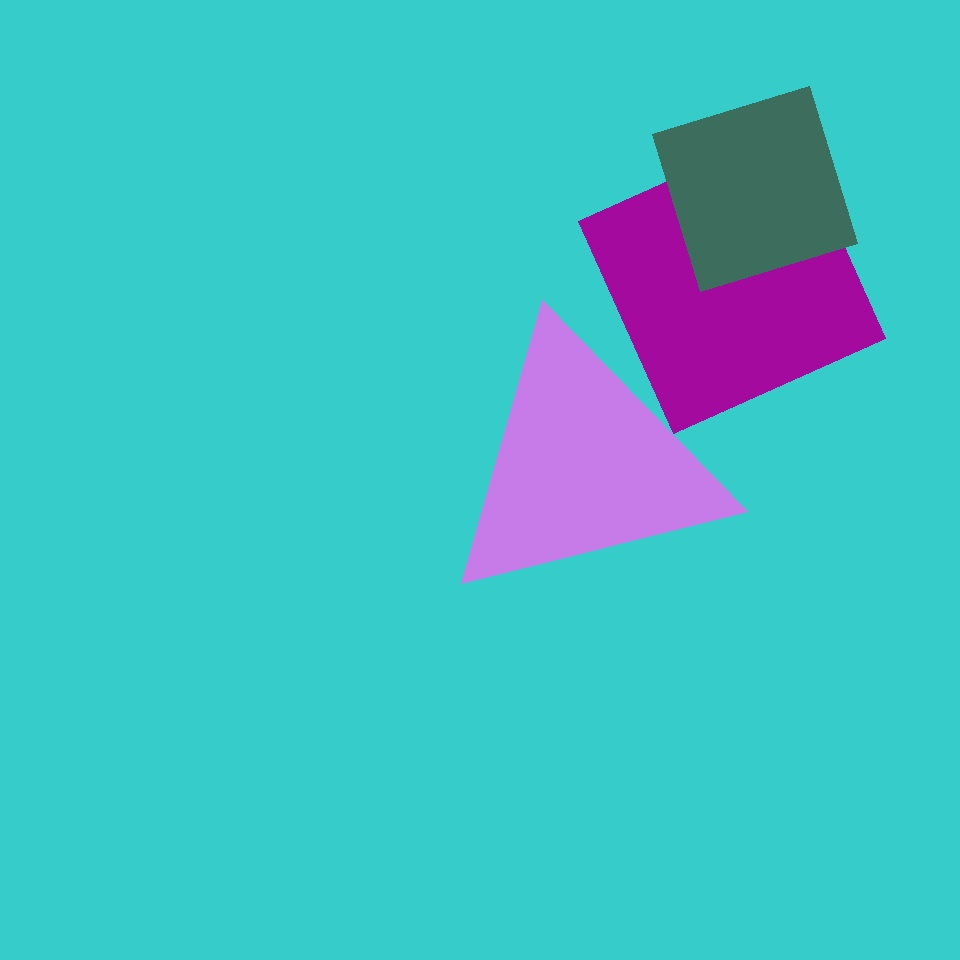circle: (289, 346, 567, 637), (441, 324, 727, 606), (468, 682, 714, 916), (340, 750, 524, 924), (462, 188, 556, 280)
square: (578, 127, 886, 434), (652, 86, 858, 292), (391, 84, 581, 274)
triangle: (354, 174, 694, 514)
